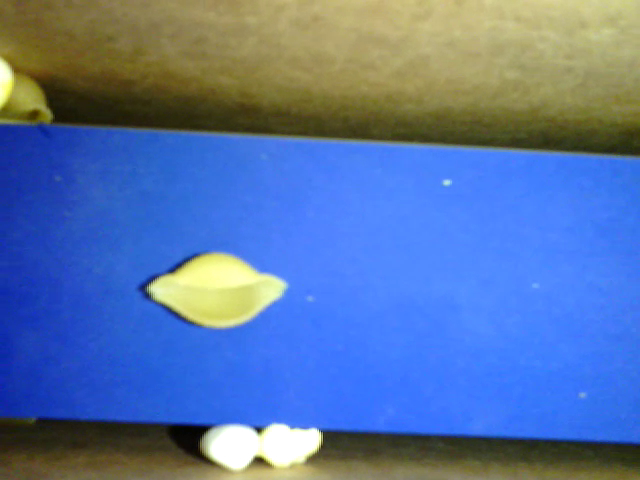shell: (141, 246, 290, 331), (2, 71, 56, 127)
